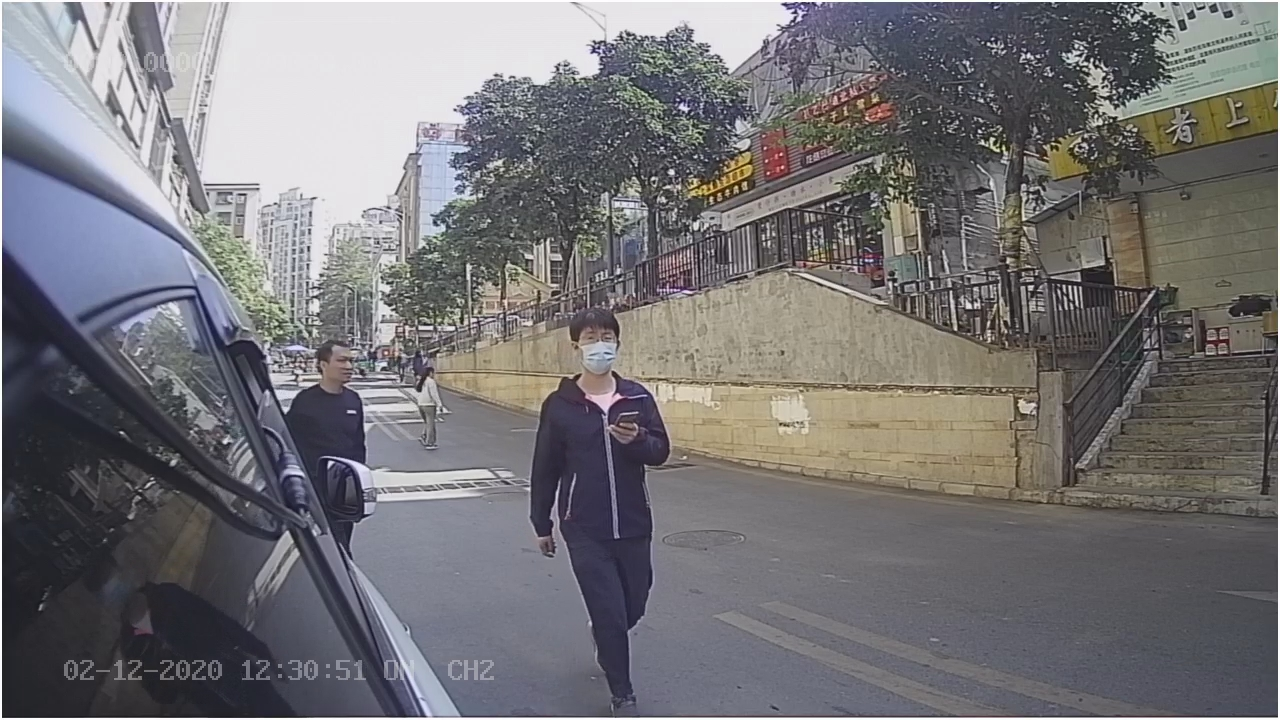person: (525, 305, 675, 567)
